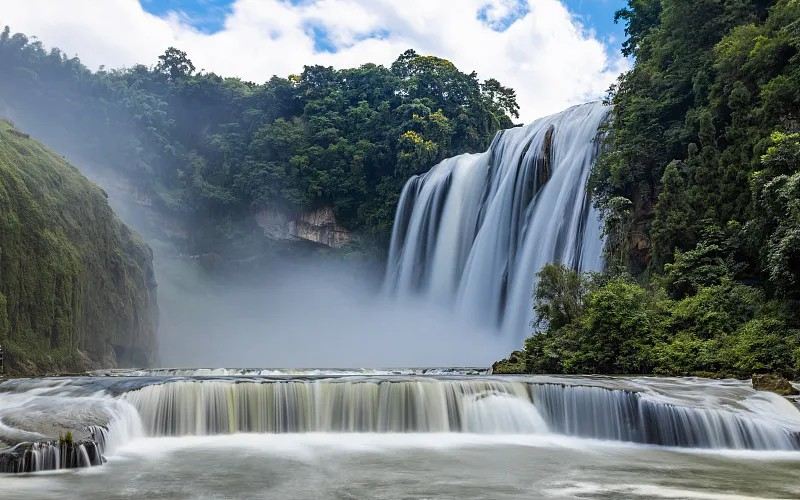Huangguoshu: (379, 101, 614, 366)
